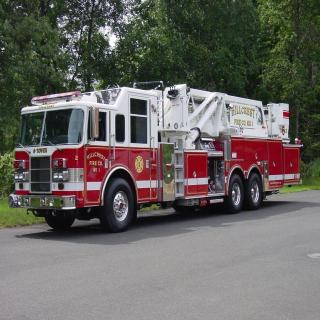Fire_truck: (8, 80, 304, 232)
